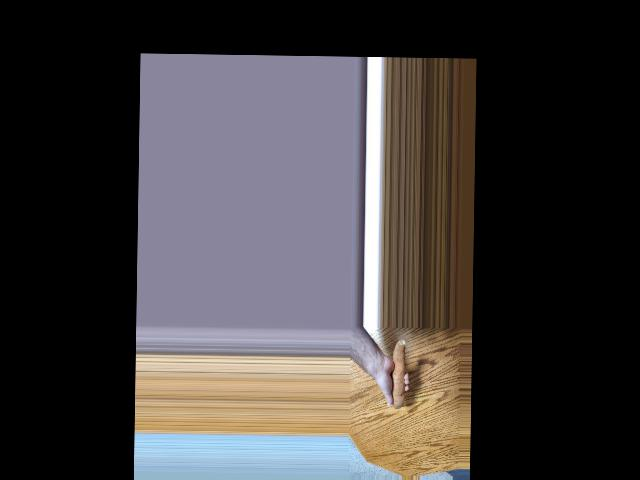sweet_potato: (384, 338, 406, 409)
